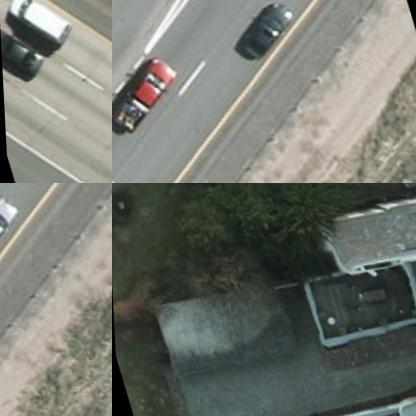car: (224, 0, 304, 66), (0, 17, 43, 88), (0, 186, 29, 263)
pickup: (112, 46, 190, 141)
van: (1, 0, 78, 56)
